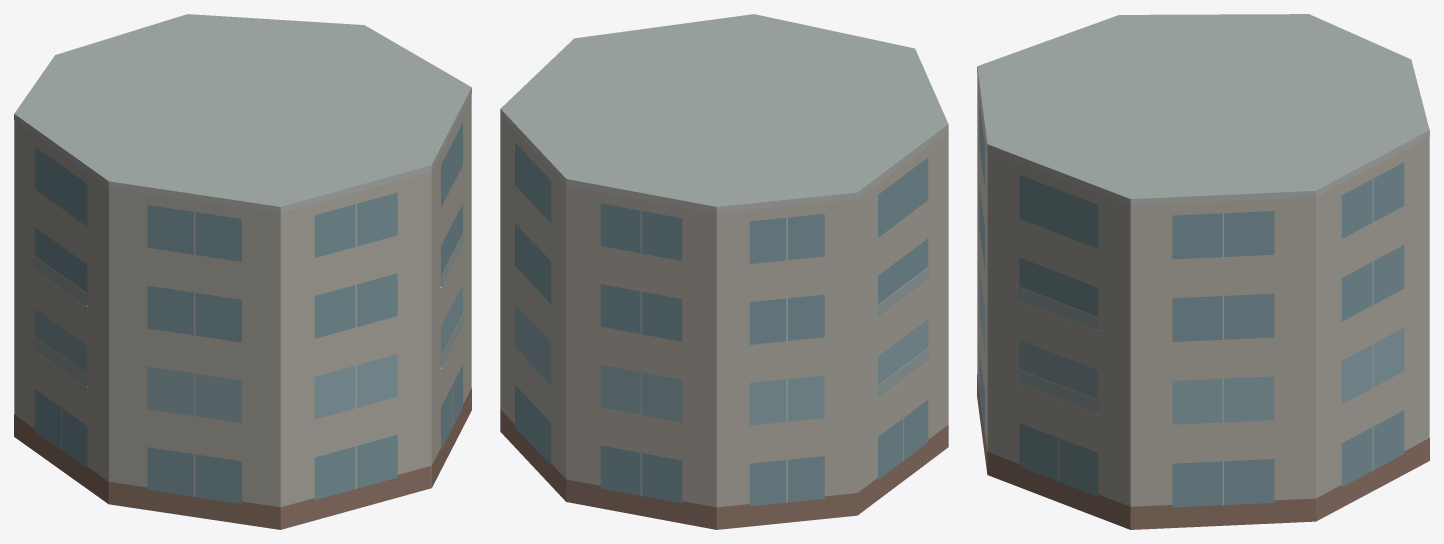
The model's file is survey-upis-32725193.glb.
3 renders of one model, left to right at view 1: azimuth 30°, elevation 25°; view 2: azimuth 150°, elevation 25°; view 3: azimuth 270°, elevation 25°, orthographic. The views are drawn at different scales.
Parts seen in each view (by area): view 1: survey-upis-32725193.tmp; view 2: survey-upis-32725193.tmp; view 3: survey-upis-32725193.tmp.
Part boxes in pixels (left/top/right/bottom): survey-upis-32725193.tmp: left=14, top=14, right=471, bottom=529; survey-upis-32725193.tmp: left=500, top=14, right=948, bottom=529; survey-upis-32725193.tmp: left=977, top=14, right=1429, bottom=529.
Bounding box in the file's own units: 14.67 × 12.2 × 15.14.
